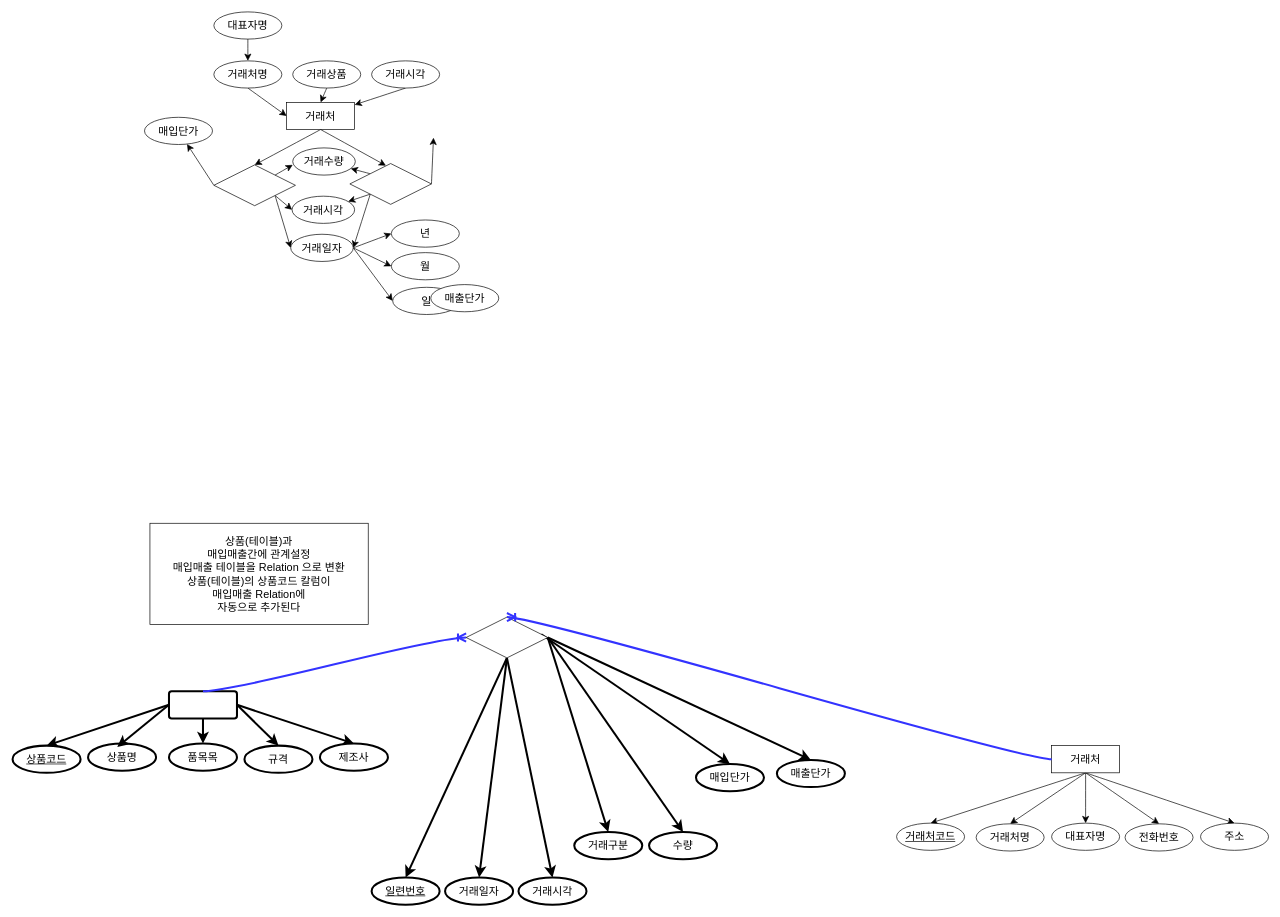
The diagram is 1280 pixels wide and 917 high, and some of its shapes have lost their labels. The shapes that lost their labels are listed below. From the top down, each one's centre as x and y in pixels, then its label:
At point (254, 185): "구입".
At point (390, 183): "판매".
At point (506, 637): "매입매출".
At point (203, 704): "상품".
